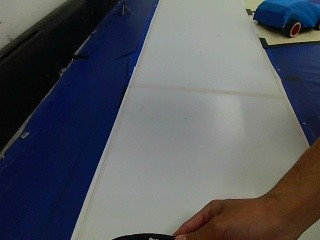car: (255, 0, 318, 40)
